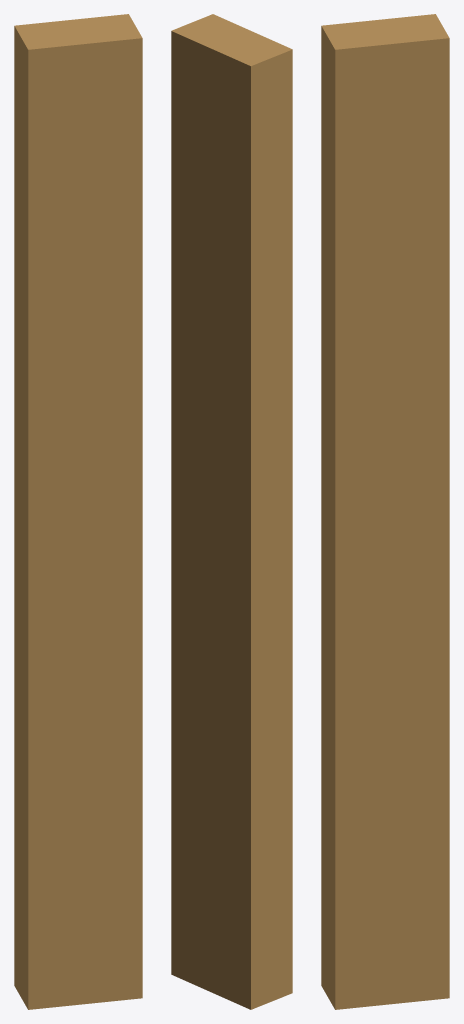
3 views of the same model, side by side, from view 1: azimuth 90°, elevation 25°; view 2: azimuth 210°, elevation 25°; view 3: azimuth 270°, elevation 25° (orthographic).
Visible parts, largest first — view 1: GAP-11-LOW-4; view 2: GAP-11-LOW-4; view 3: GAP-11-LOW-4.
Part boxes in pixels (left/top/right/bottom): GAP-11-LOW-4: left=14, top=14, right=142, bottom=1009; GAP-11-LOW-4: left=171, top=14, right=292, bottom=1009; GAP-11-LOW-4: left=321, top=14, right=449, bottom=1009.
Size of the model in its own units: 0.0649 by 0.81 by 0.0981.
